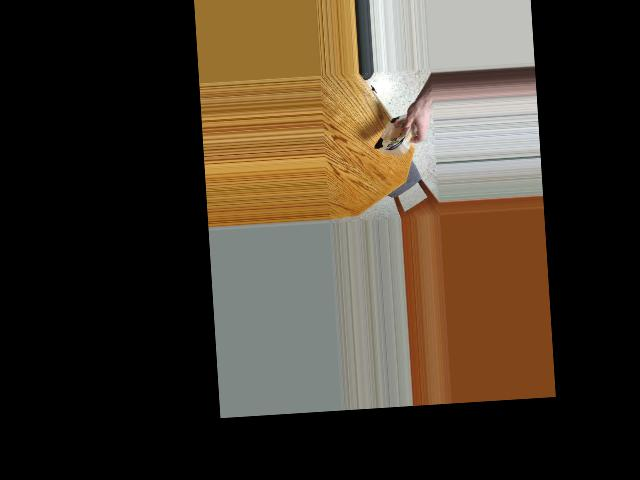cheese: (373, 101, 416, 161)
